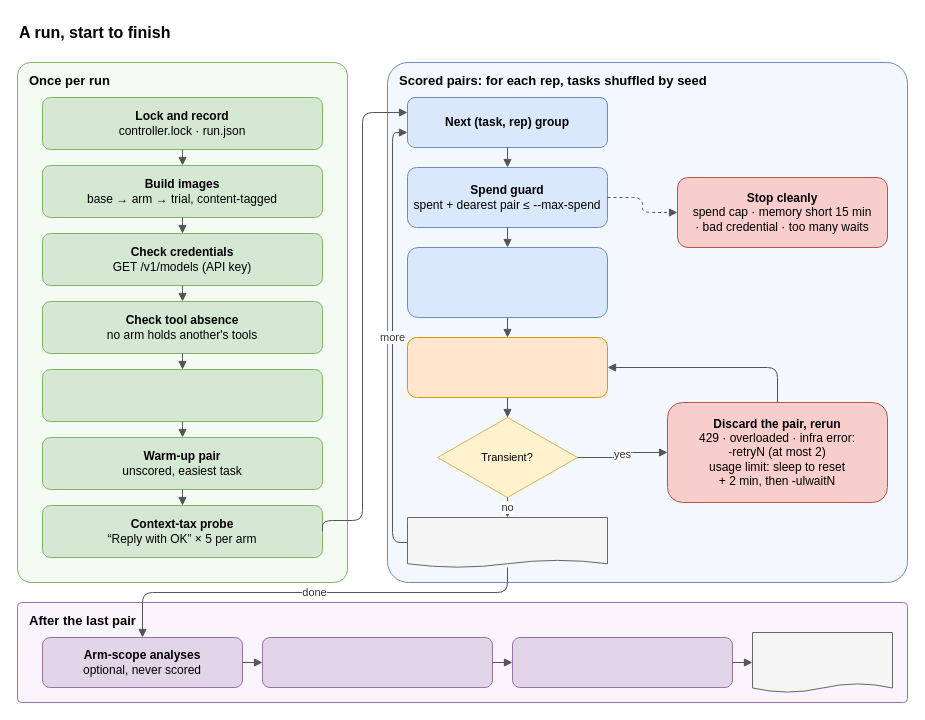
Image size: 925x720. Some labels were removed from this diagram. The shapes that lost their labels are listed below. From the top down, each one's centre as x and y in pixels, then its label:
At [507,282]: "Resource gate memory, leaked containers → resources.jsonl".
At [507,367]: "Trial A ∥ Trial B same task, started together".
At [182,395]: "Egress internal network + proxy per arm".
At [507,542]: "Record both trials.jsonl".
At [377,662]: "Teardown this run's containers, proxies, networks".
At [622,662]: "Statistics pass@1, pass@k, bootstrap CIs, Wilcoxon".
At [822,662]: "summary.json · report.html baseline.json updated".
